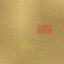structure: (17, 38, 34, 49)
vehicle: (36, 24, 51, 33)
